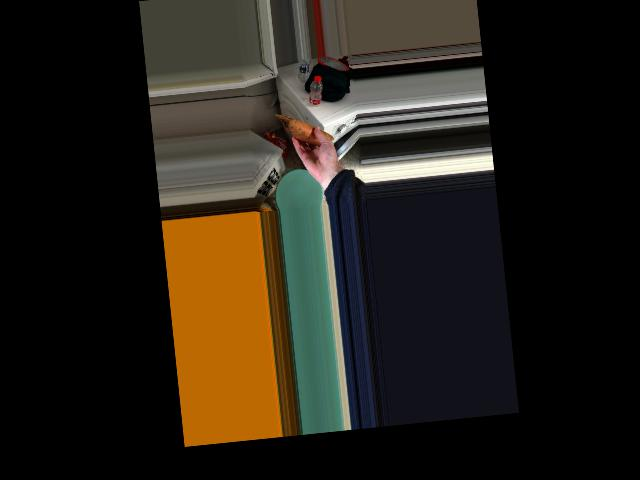sweet_potato: (289, 118, 325, 148)
